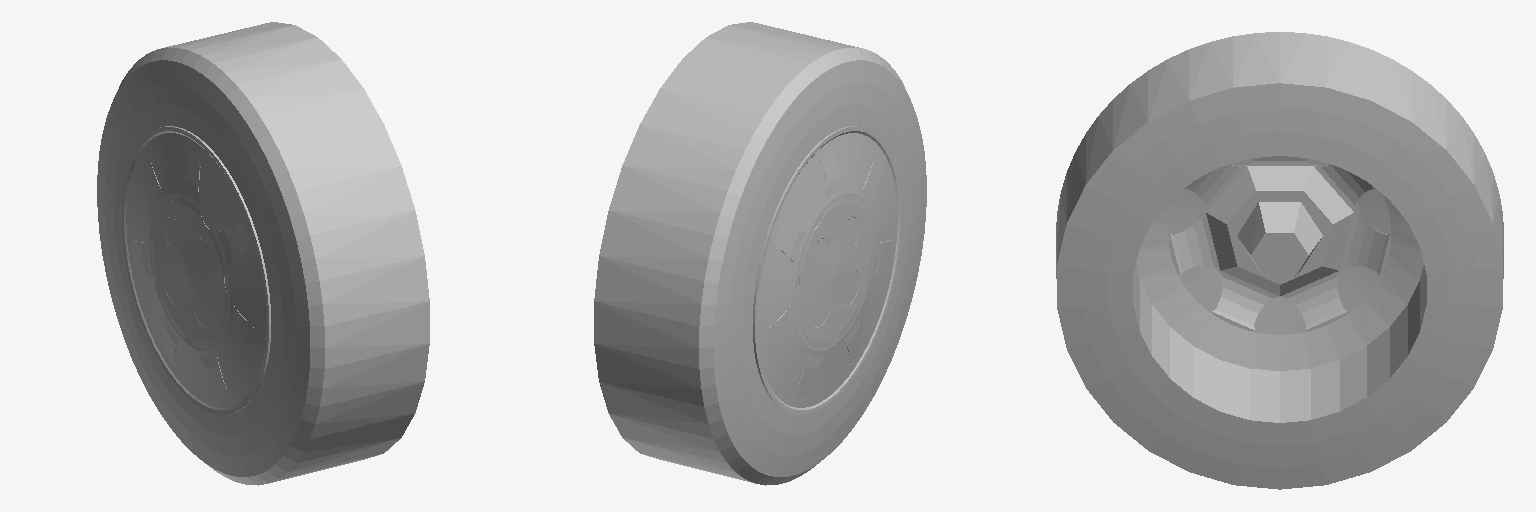
File: wheel.obj
3 renders of one model, left to right at view 1: azimuth 30°, elevation 25°; view 2: azimuth 150°, elevation 25°; view 3: azimuth 270°, elevation 25°, orthographic.
Parts seen in each view (by area): view 1: nis_240sx_94_wheel_tire # 523 vertices 783 faces, nis_240sx_94_wheel_blur_rim # 121 vertices 226 faces, nis_240sx_94_wheel_rim # 1509 vertices 1487 faces, nis_240sx_94_wheel_blur_lip # 650 vertices 600 faces; view 2: nis_240sx_94_wheel_tire # 523 vertices 783 faces, nis_240sx_94_wheel_blur_rim # 121 vertices 226 faces, nis_240sx_94_wheel_rim # 1509 vertices 1487 faces, nis_240sx_94_wheel_blur_lip # 650 vertices 600 faces; view 3: nis_240sx_94_wheel_tire # 523 vertices 783 faces, nis_240sx_94_wheel_inner_rim # 301 vertices 336 faces, nis_240sx_94_wheel_blur_rim # 121 vertices 226 faces.
Boxes of the visible parts, x1=… form: nis_240sx_94_wheel_tire # 523 vertices 783 faces: x1=97, y1=22, x2=429, y2=485; nis_240sx_94_wheel_blur_rim # 121 vertices 226 faces: x1=130, y1=142, x2=260, y2=398; nis_240sx_94_wheel_rim # 1509 vertices 1487 faces: x1=131, y1=144, x2=260, y2=398; nis_240sx_94_wheel_blur_lip # 650 vertices 600 faces: x1=122, y1=126, x2=270, y2=414; nis_240sx_94_wheel_tire # 523 vertices 783 faces: x1=594, y1=22, x2=926, y2=485; nis_240sx_94_wheel_blur_rim # 121 vertices 226 faces: x1=763, y1=142, x2=893, y2=398; nis_240sx_94_wheel_rim # 1509 vertices 1487 faces: x1=763, y1=144, x2=892, y2=398; nis_240sx_94_wheel_blur_lip # 650 vertices 600 faces: x1=753, y1=126, x2=901, y2=414; nis_240sx_94_wheel_tire # 523 vertices 783 faces: x1=1056, y1=32, x2=1503, y2=489; nis_240sx_94_wheel_inner_rim # 301 vertices 336 faces: x1=1133, y1=156, x2=1426, y2=422; nis_240sx_94_wheel_blur_rim # 121 vertices 226 faces: x1=1169, y1=158, x2=1390, y2=334.
Bounding box in the file's own units: 0.2214 × 0.6272 × 0.6272.